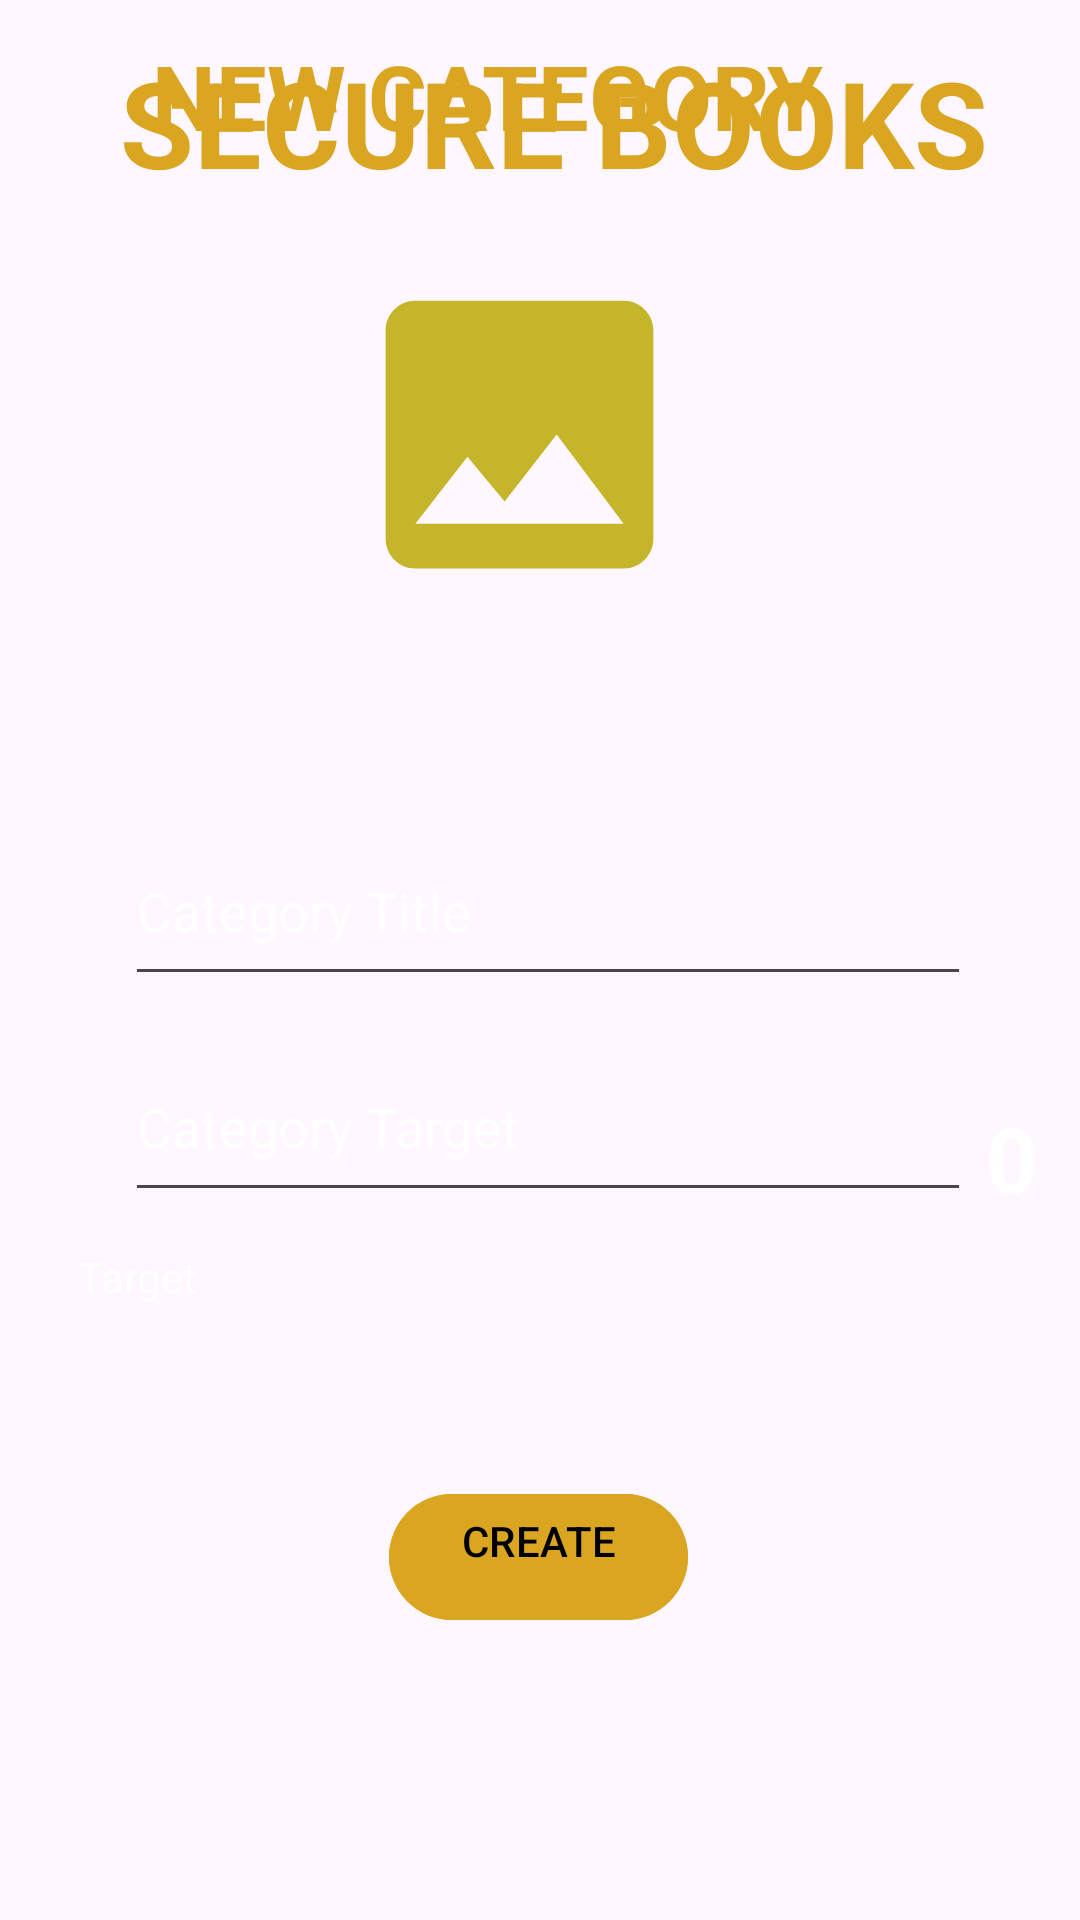

Where icons sit on this 1080 x 1920 app screen, as {"left": x1, "top": y1, "right": x2, "bottom": y2}:
Add Image: {"left": 385, "top": 300, "right": 654, "bottom": 569}
